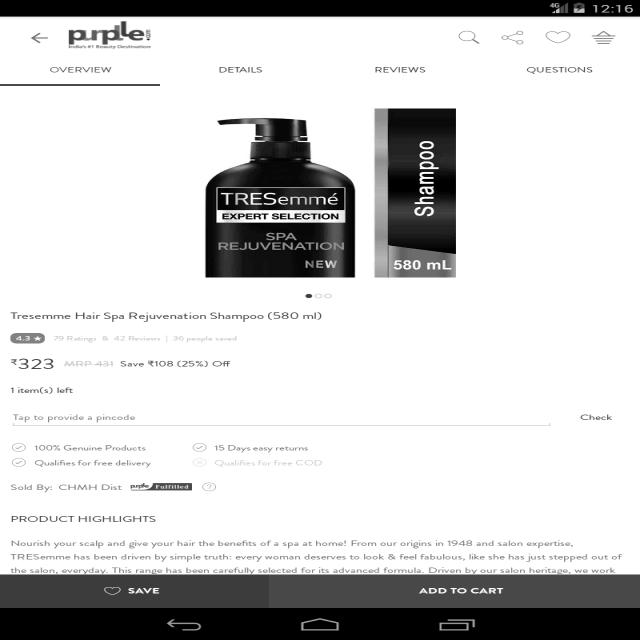Button: (262, 568, 630, 614)
ImageButton: (447, 24, 490, 48), (537, 25, 578, 47), (588, 27, 622, 49), (22, 28, 52, 50), (498, 28, 530, 48)
ImageView: (159, 101, 483, 279), (58, 15, 167, 51)
TextView: (6, 534, 616, 562), (7, 306, 326, 319), (111, 355, 250, 377), (4, 509, 162, 527), (7, 407, 166, 424), (6, 352, 64, 371)
